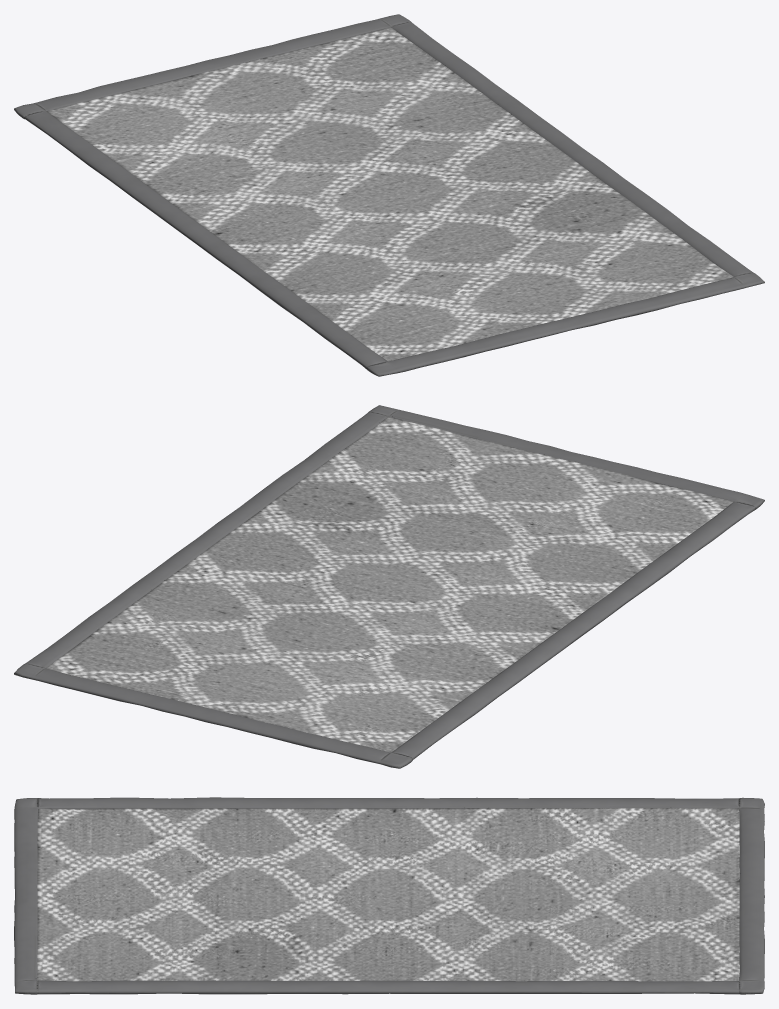
The model's file is area_rug.glb.
The picture shows the model from 3 angles, top to bottom: view 1: azimuth 30°, elevation 25°; view 2: azimuth 150°, elevation 25°; view 3: azimuth 270°, elevation 25°; orthographic projection. The views are drawn at different scales.
Visible parts, largest first — view 1: Object_2, Object_3; view 2: Object_2, Object_3; view 3: Object_2, Object_3.
Part boxes in pixels (left/top/right/bottom): Object_2: left=46, top=27, right=733, bottom=361; Object_3: left=14, top=14, right=764, bottom=376; Object_2: left=46, top=416, right=733, bottom=752; Object_3: left=14, top=405, right=764, bottom=768; Object_2: left=37, top=808, right=739, bottom=981; Object_3: left=14, top=797, right=764, bottom=994.
Bounding box in the file's own units: 4.07 × 0.0925 × 6.64.
Materials: 2 (2 with a texture image).
